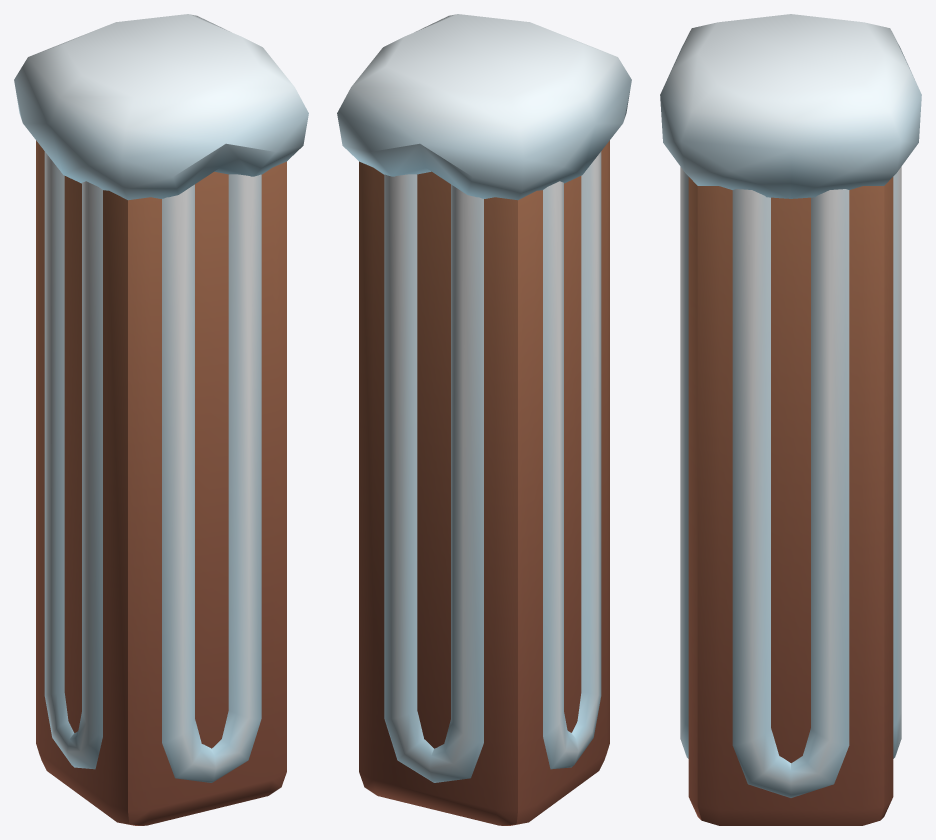
Rendered from pillar_gingerbread_small_B.obj.
3 views of the same model, side by side, from view 1: azimuth 30°, elevation 25°; view 2: azimuth 150°, elevation 25°; view 3: azimuth 270°, elevation 25° (orthographic).
Parts seen in each view (by area): view 1: pillar_gingerbread_small_B; view 2: pillar_gingerbread_small_B; view 3: pillar_gingerbread_small_B.
Part boxes in pixels (x1=…): pillar_gingerbread_small_B: x1=14, y1=14, x2=308, y2=825; pillar_gingerbread_small_B: x1=337, y1=14, x2=631, y2=825; pillar_gingerbread_small_B: x1=660, y1=14, x2=921, y2=825.
Bounding box in the file's own units: 1.28 × 4 × 1.28.
1 material, 1 textured.
